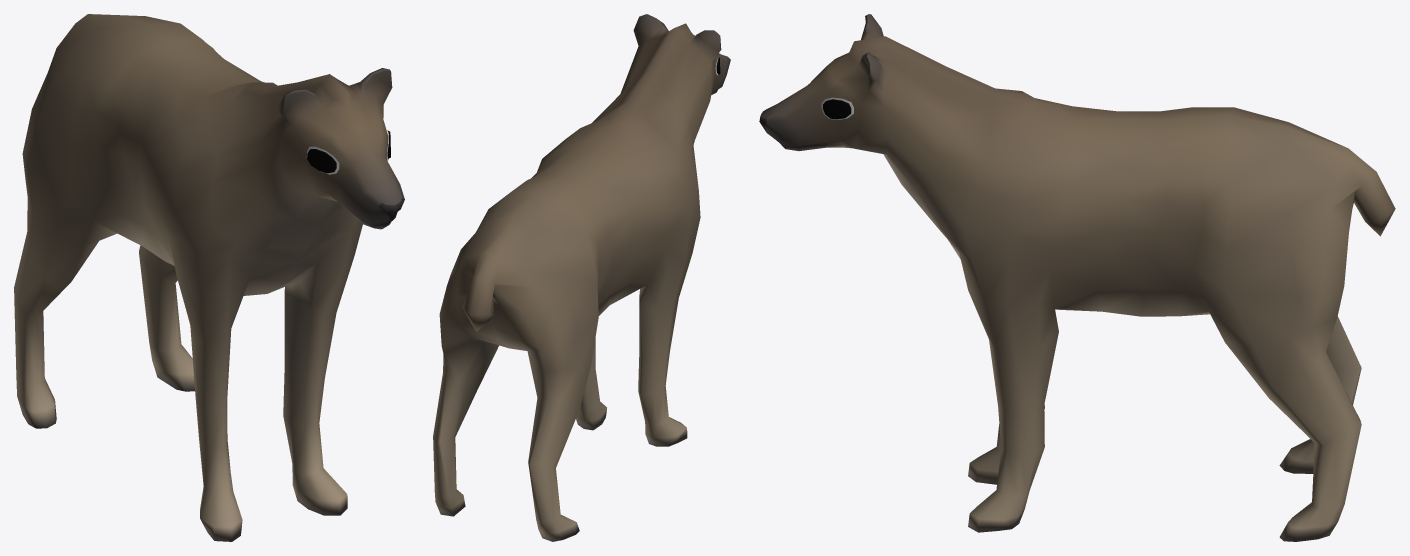
Rendered from kit-hyena.glb.
The picture shows the model from 3 angles, left to right: view 1: azimuth 30°, elevation 25°; view 2: azimuth 150°, elevation 25°; view 3: azimuth 270°, elevation 25°; orthographic projection. The views are drawn at different scales.
Visible parts, largest first — view 1: base; view 2: base; view 3: base.
Part boxes in pixels (bbox=[...]): base: bbox=[14, 14, 404, 541]; base: bbox=[433, 14, 730, 541]; base: bbox=[759, 14, 1395, 541].
Bounding box in the file's own units: 0.4335 × 1.14 × 1.41.
